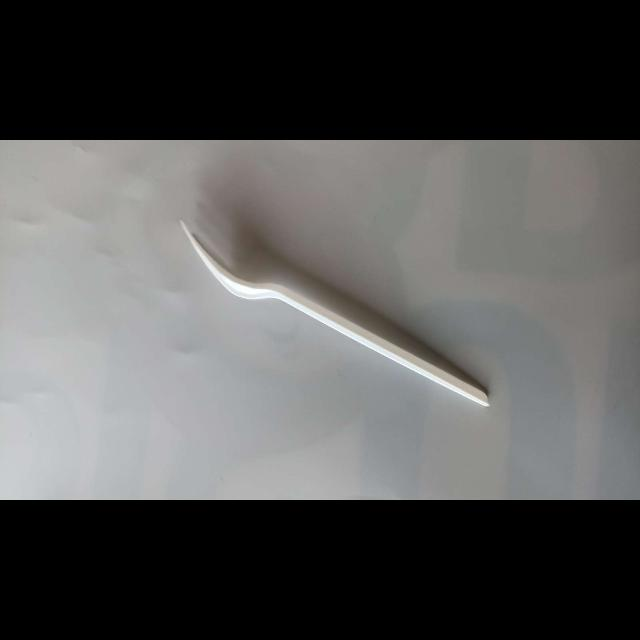plastic_cultery: (168, 212, 492, 416)
